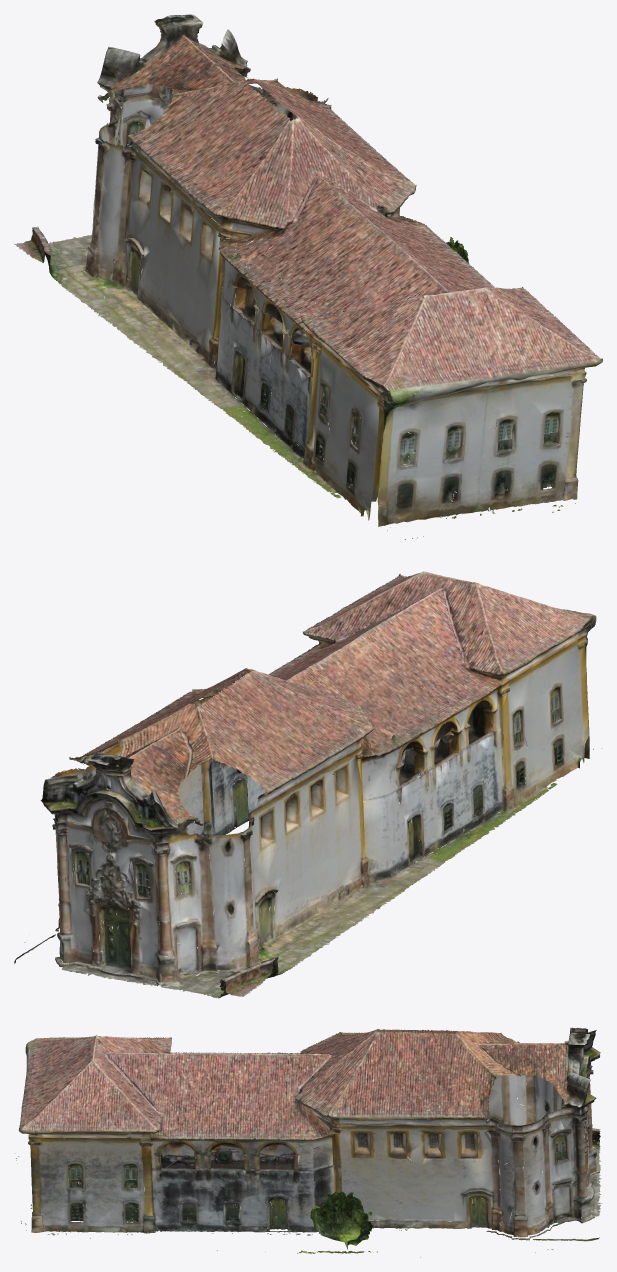
Rendered from sao_francisco.glb.
3 views of the same model, one above another, from view 1: azimuth 30°, elevation 25°; view 2: azimuth 150°, elevation 25°; view 3: azimuth 270°, elevation 25° (orthographic). The views are drawn at different scales.
Parts seen in each view (by area): view 1: Object_2, Object_5, Object_3, Object_7, Object_6, Object_4, Object_8; view 2: Object_3, Object_2, Object_5, Object_6, Object_4, Object_7, Object_8; view 3: Object_2, Object_5, Object_3, Object_4, Object_7, Object_6, Object_8.
Boxes of the visible parts, left/top/right/bottom form: Object_2: left=229, top=128, right=602, bottom=539; Object_5: left=183, top=178, right=599, bottom=526; Object_3: left=58, top=78, right=496, bottom=433; Object_7: left=30, top=83, right=393, bottom=361; Object_6: left=51, top=14, right=345, bottom=310; Object_4: left=14, top=37, right=397, bottom=282; Object_8: left=177, top=192, right=469, bottom=438; Object_3: left=54, top=659, right=471, bottom=972; Object_2: left=115, top=571, right=593, bottom=856; Object_5: left=51, top=572, right=602, bottom=937; Object_6: left=40, top=664, right=462, bottom=998; Object_4: left=14, top=680, right=292, bottom=997; Object_7: left=14, top=668, right=392, bottom=987; Object_8: left=189, top=661, right=478, bottom=892; Object_2: left=16, top=1036, right=460, bottom=1238; Object_5: left=20, top=1035, right=582, bottom=1240; Object_3: left=165, top=1030, right=582, bottom=1253; Object_4: left=336, top=1037, right=602, bottom=1252; Object_7: left=309, top=1029, right=600, bottom=1240; Object_6: left=454, top=1027, right=600, bottom=1201; Object_8: left=146, top=1052, right=420, bottom=1257.
Size of the model in its own units: 25.82 by 20.52 by 59.85.
Materials: 1 (1 with a texture image).
